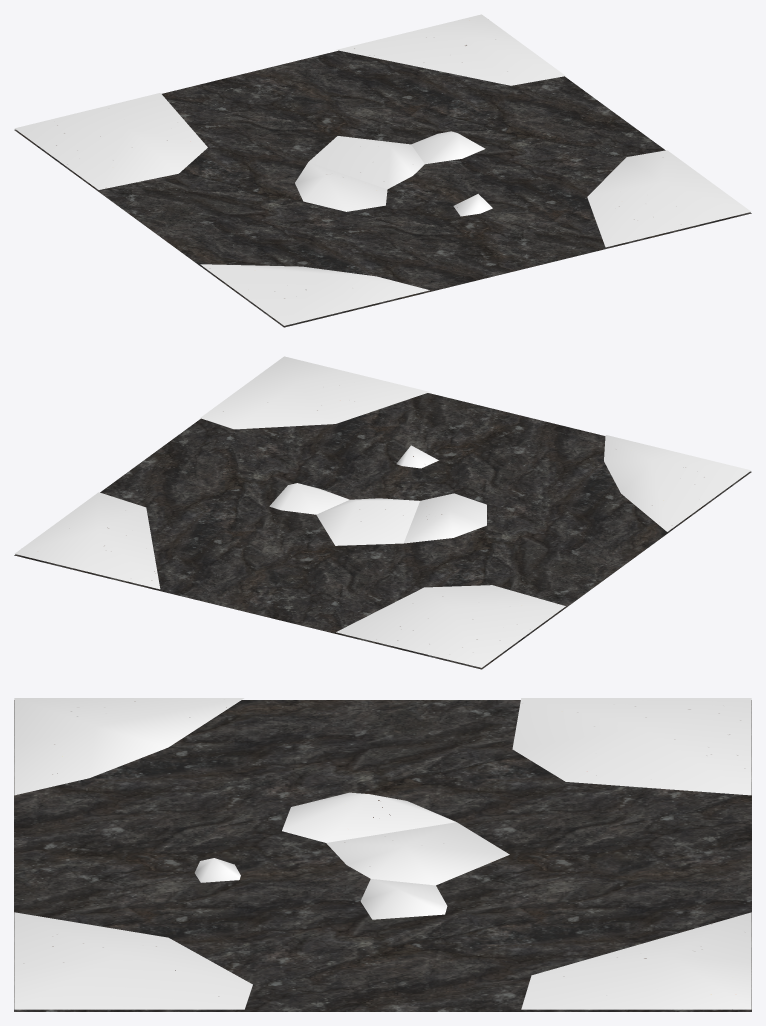
The model's file is Garden_07_Art.glb.
3 views of the same model, one above another, from view 1: azimuth 30°, elevation 25°; view 2: azimuth 150°, elevation 25°; view 3: azimuth 270°, elevation 25° (orthographic). The views are drawn at different scales.
Parts seen in each view (by area): view 1: Garden_07_Art; view 2: Garden_07_Art; view 3: Garden_07_Art.
Boxes of the visible parts, x1,y1,x2,y2 form: Garden_07_Art: [14, 14, 751, 327]; Garden_07_Art: [14, 356, 751, 669]; Garden_07_Art: [14, 698, 751, 1011].
Bounding box in the file's own units: 15.98 × 0.5007 × 15.98.
Materials: 2 (2 with a texture image).
